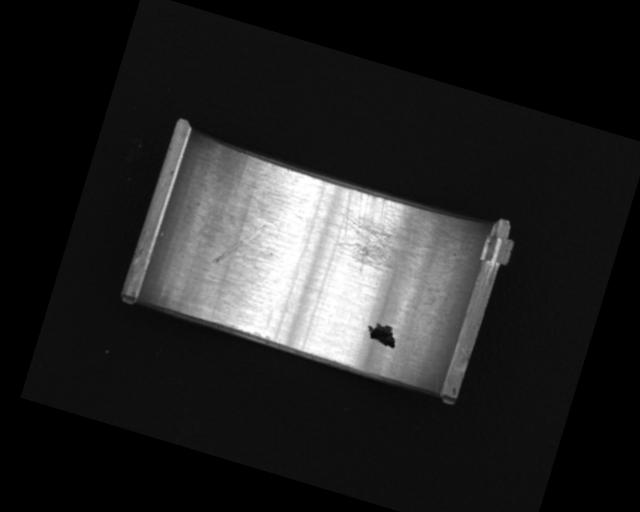blot: (362, 319, 401, 350)
nick: (211, 213, 264, 273)
scratch: (328, 184, 453, 293)
